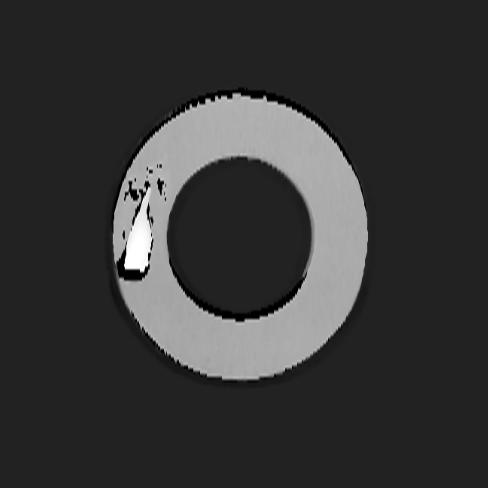defect: (115, 162, 167, 282)
